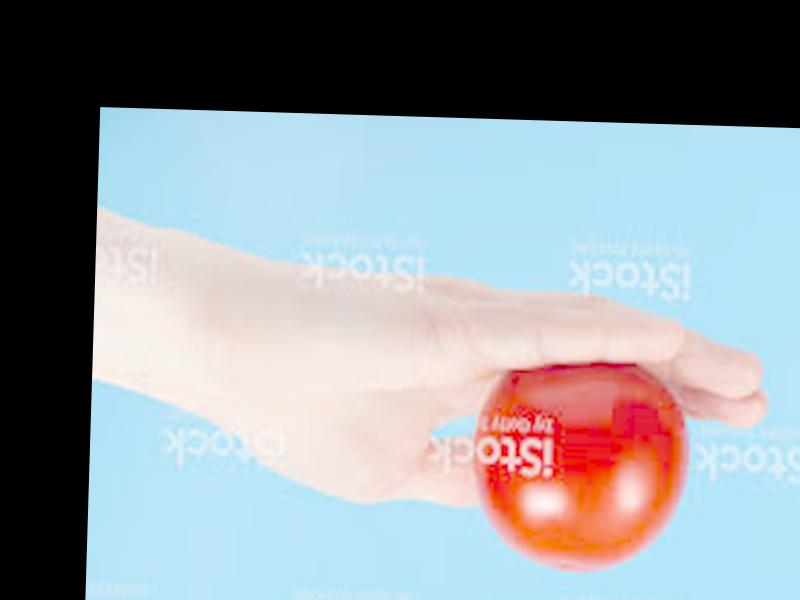Tomato: (473, 360, 691, 570)
